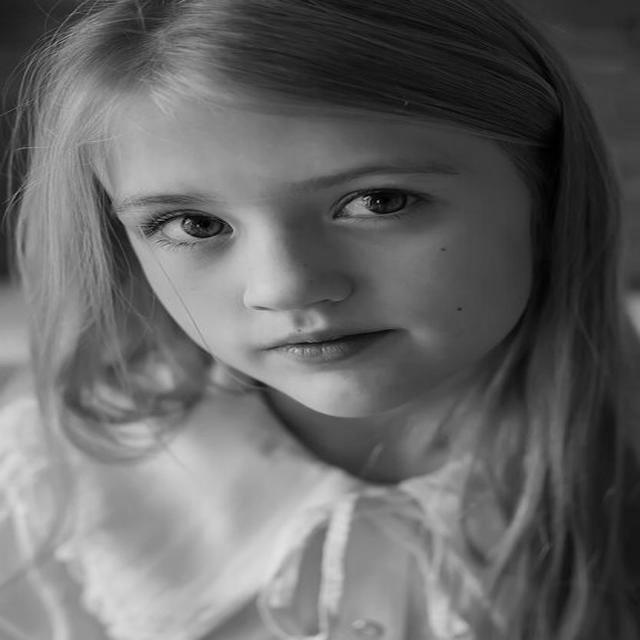Neutral: (106, 90, 534, 418)
